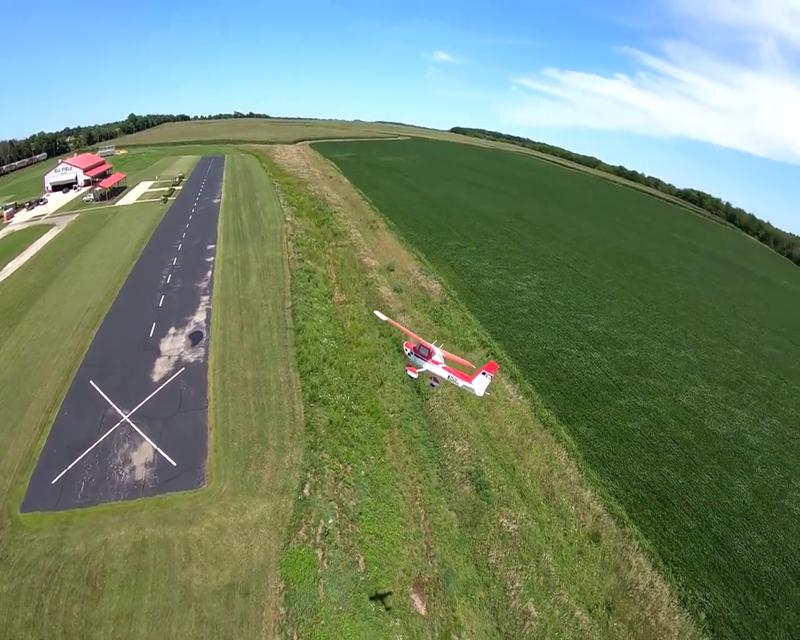UAV: (372, 308, 499, 397)
